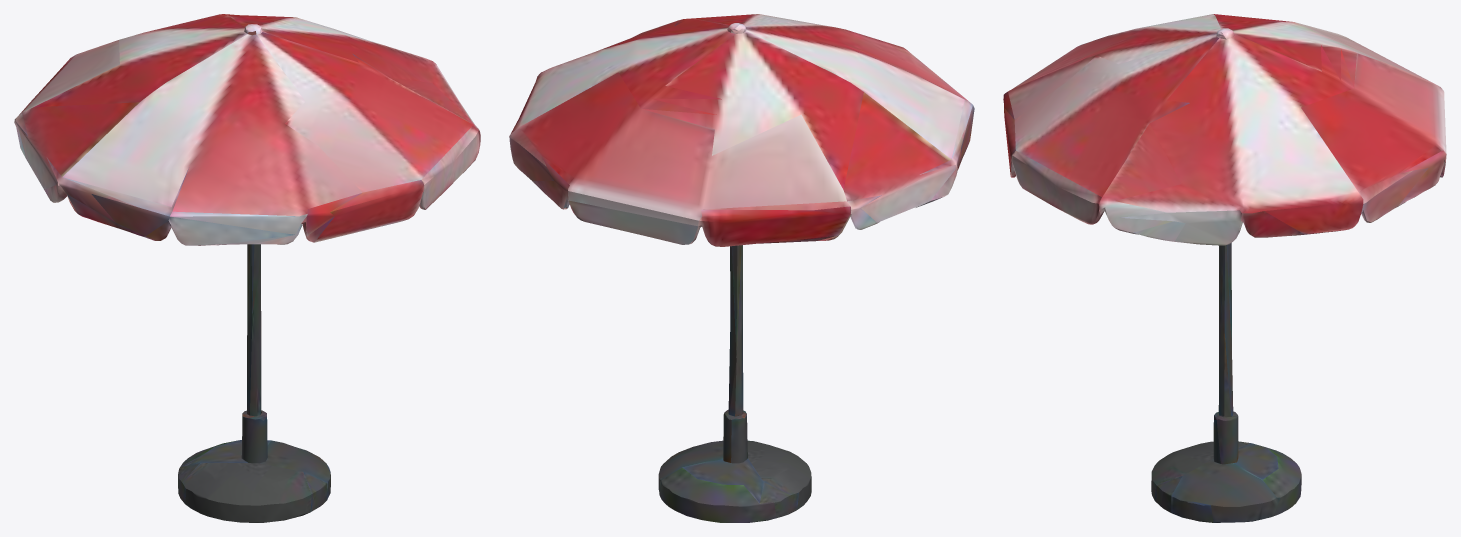
The model's file is umbrella-market.glb.
3 renders of one model, left to right at view 1: azimuth 30°, elevation 25°; view 2: azimuth 150°, elevation 25°; view 3: azimuth 270°, elevation 25°, orthographic.
Parts seen in each view (by area): view 1: Mesh_0.3917; view 2: Mesh_0.3917; view 3: Mesh_0.3917.
Boxes of the visible parts, bbox=[...] form: Mesh_0.3917: bbox=[14, 14, 480, 522]; Mesh_0.3917: bbox=[509, 14, 974, 522]; Mesh_0.3917: bbox=[1003, 14, 1446, 522].
Size of the model in its own units: 2.15 by 2.4 by 2.09.
1 material, 1 textured.
